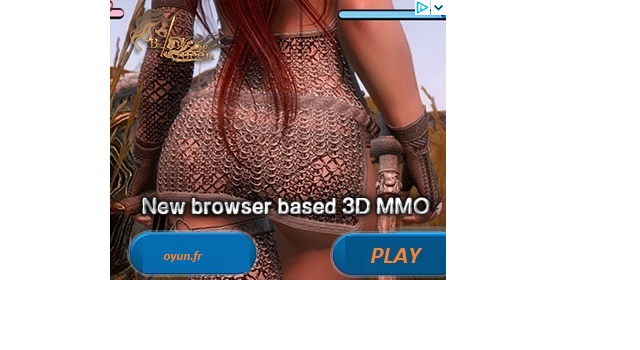fake_button: (124, 230, 260, 280), (326, 224, 448, 279)
